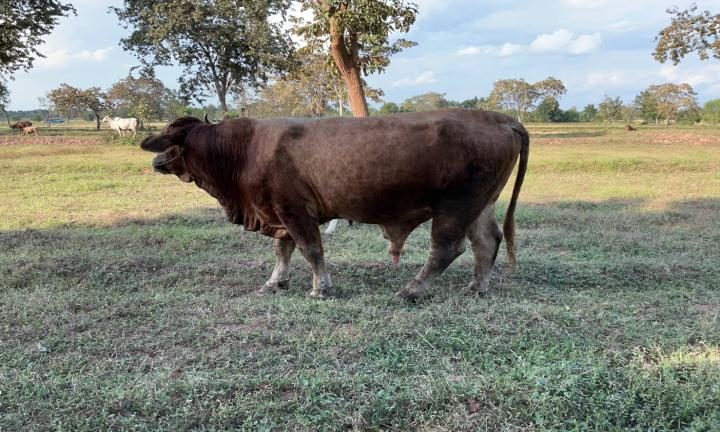Charolais: (141, 108, 528, 298)
